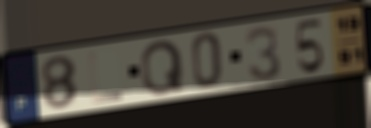0: (189, 30, 227, 92)
3: (243, 24, 283, 83)
5: (293, 16, 326, 74)
8: (40, 54, 80, 111)
L: (87, 50, 126, 106)
Q: (139, 37, 186, 98)
